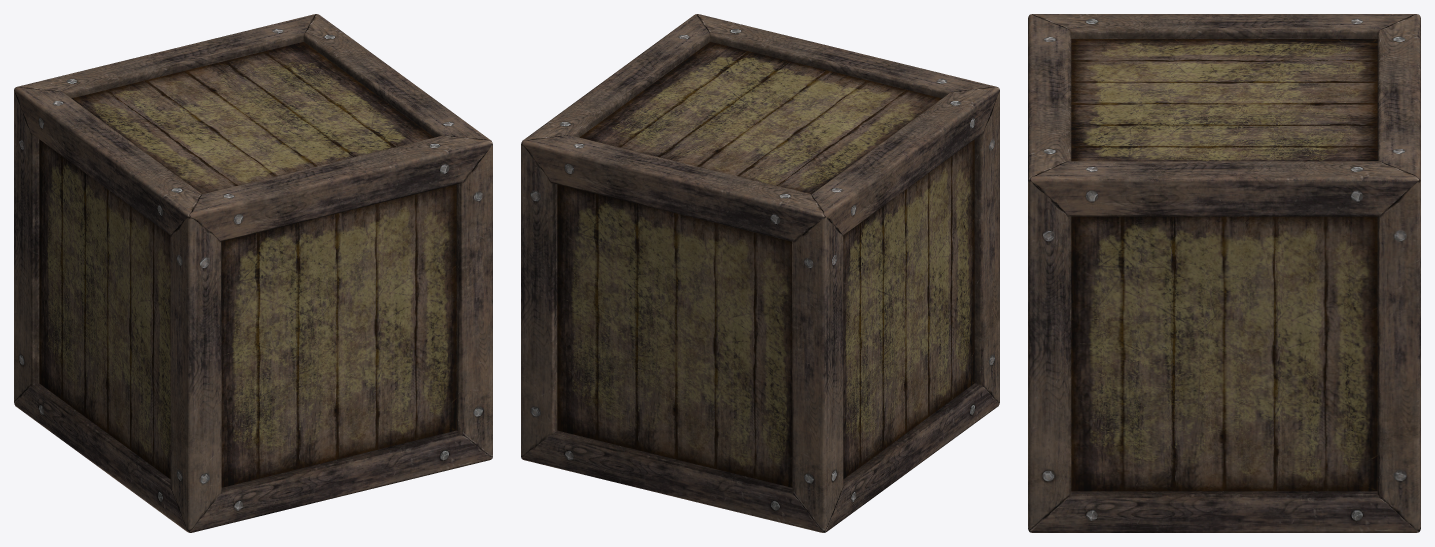
Rendered from Crate.fbx.
3 views of the same model, side by side, from view 1: azimuth 30°, elevation 25°; view 2: azimuth 150°, elevation 25°; view 3: azimuth 270°, elevation 25° (orthographic). The views are drawn at different scales.
Parts seen in each view (by area): view 1: Crate; view 2: Crate; view 3: Crate.
Part boxes in pixels (box(x1,y1,x2,y2)): Crate: box(14, 14, 492, 532); Crate: box(521, 14, 999, 532); Crate: box(1028, 14, 1420, 532).
Size of the model in its own units: 24.02 by 24.02 by 24.02.
